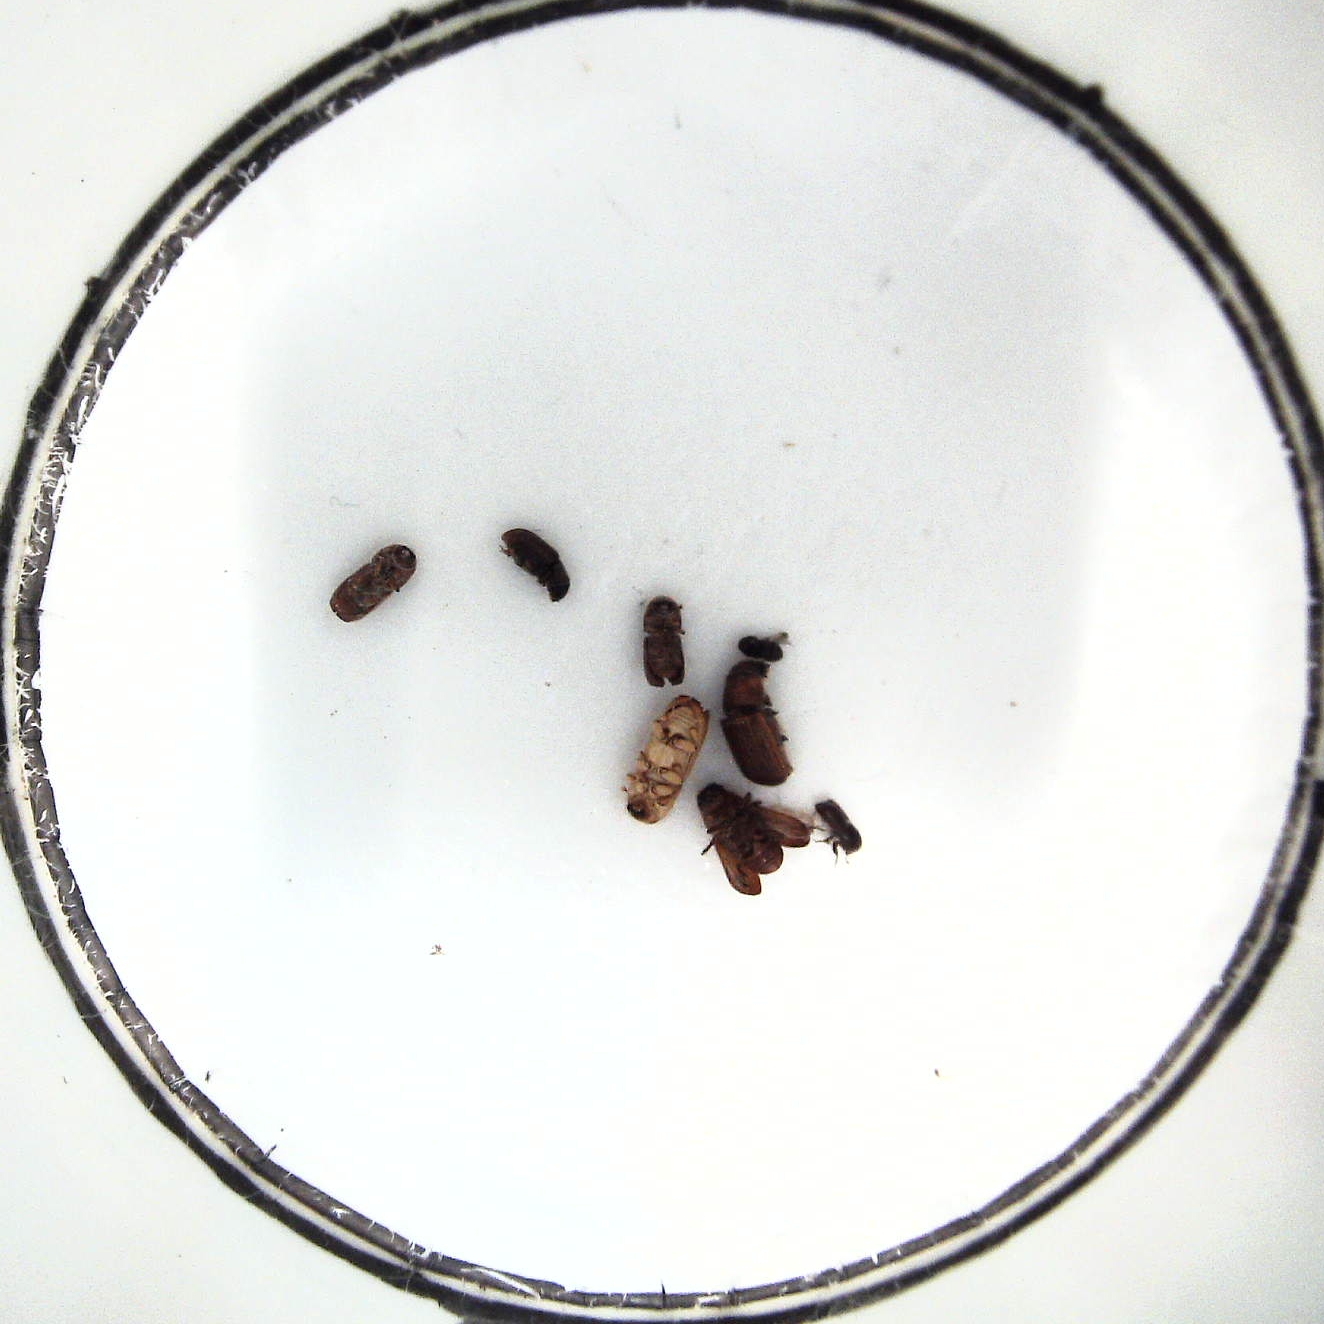Boerner: (618, 694, 713, 824)
Leconte: (695, 783, 810, 894), (717, 662, 807, 786)
Linnaeus: (329, 540, 420, 624), (633, 594, 695, 689)
acuminatus: (814, 799, 866, 864)
armandi: (495, 529, 572, 606)
coleoptera: (736, 630, 794, 658)
